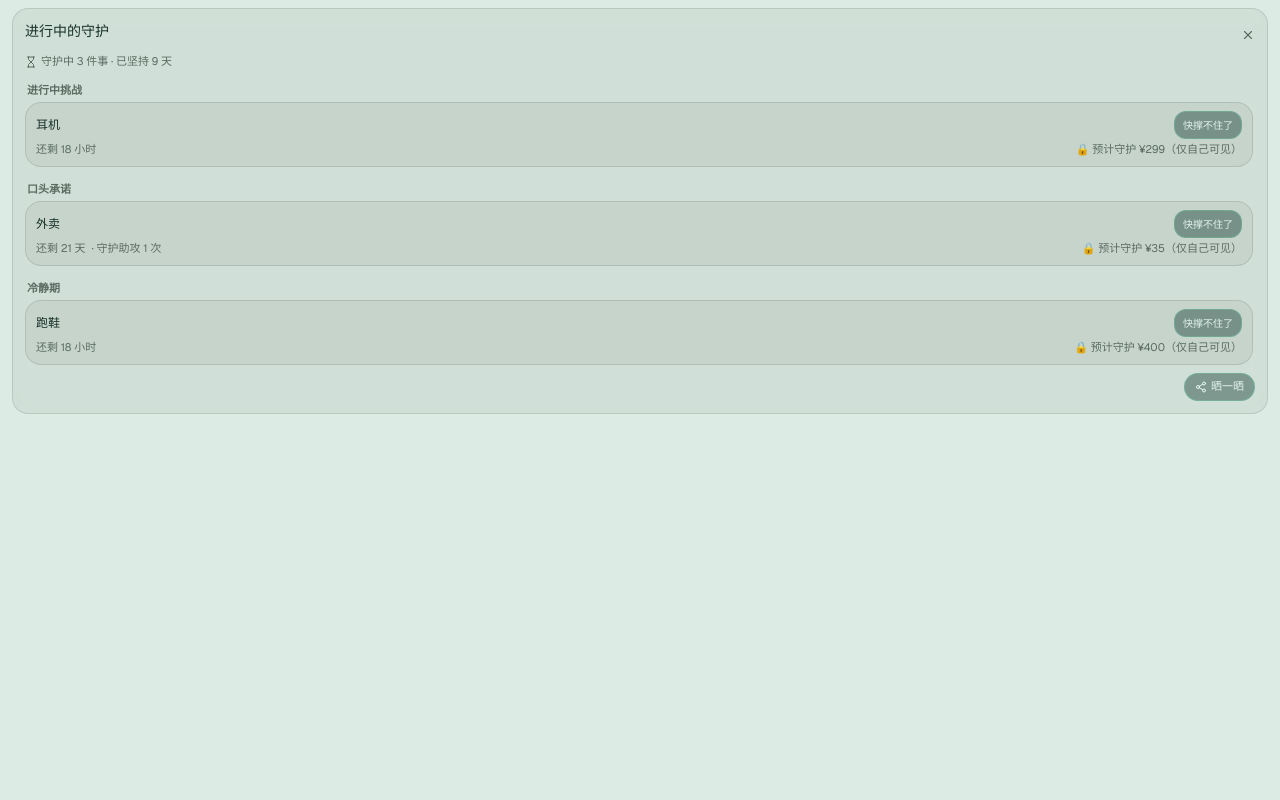
Scenario: ActiveGuardsPanel › 红线: 分享面打开且结构性 amount-free (私享金额/私享文案绝不进分享面)
The image size is (1280, 800).
Step 1. Click the button with test id "active-guards-share-btn" → (1220, 386), box 1184,372 -> 1255,400
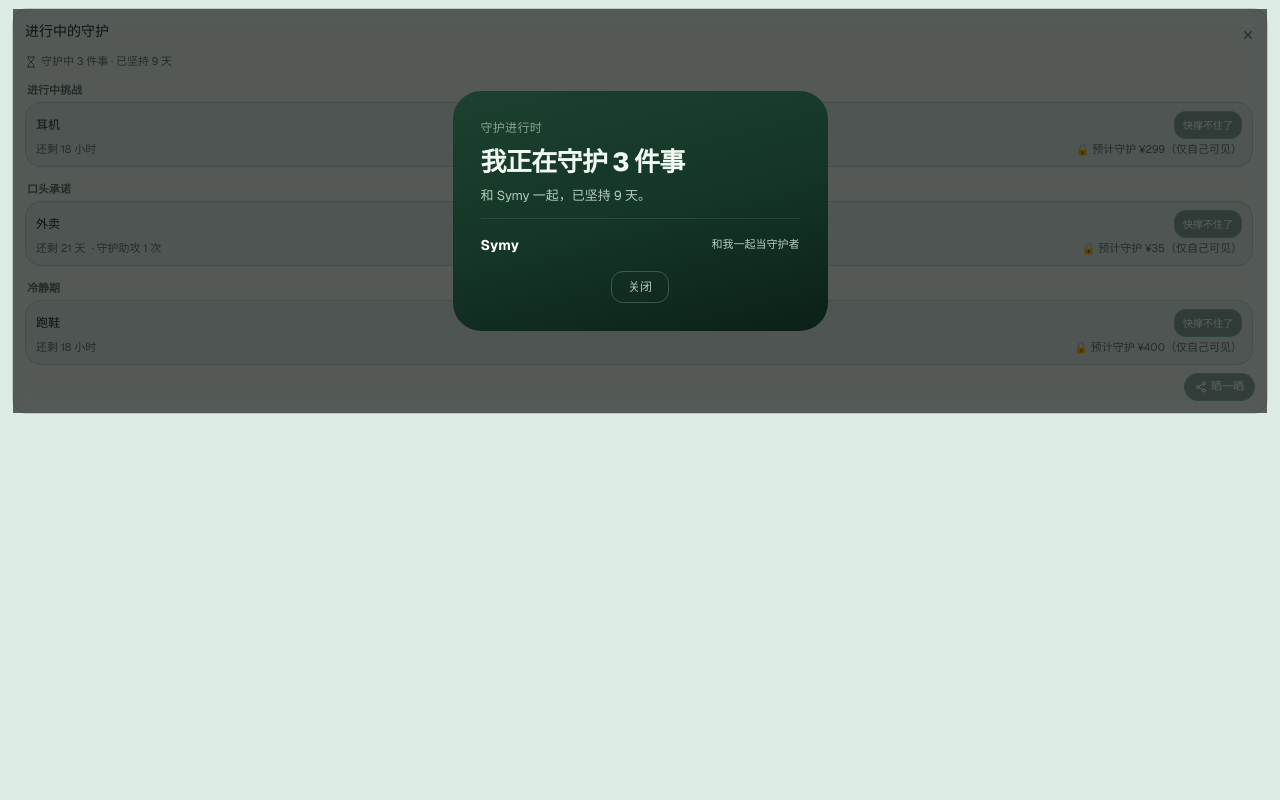
Expected: the element with test id "active-guards-share-face" does not show "仅自己可见"
Expected: the element with test id "active-guards-share-face" shows "3", 480,145 -> 685,179
Expected: the element with test id "active-guards-share-face" shows "9", 480,187 -> 651,204
